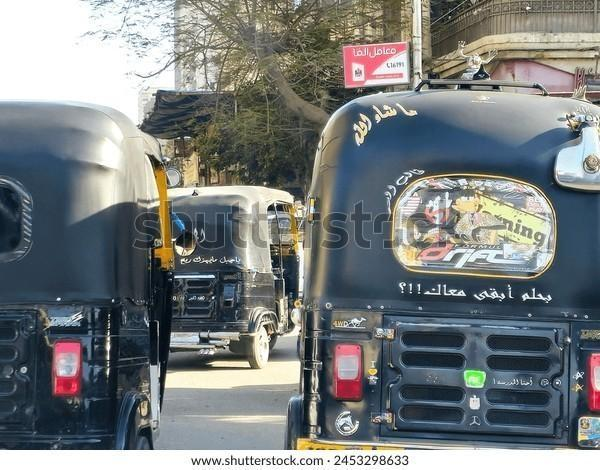keke: (292, 78, 594, 470), (0, 96, 167, 452), (162, 187, 300, 377)
